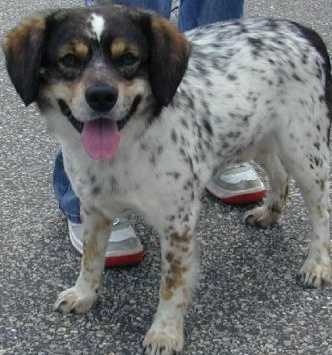dog: (0, 10, 332, 288)
